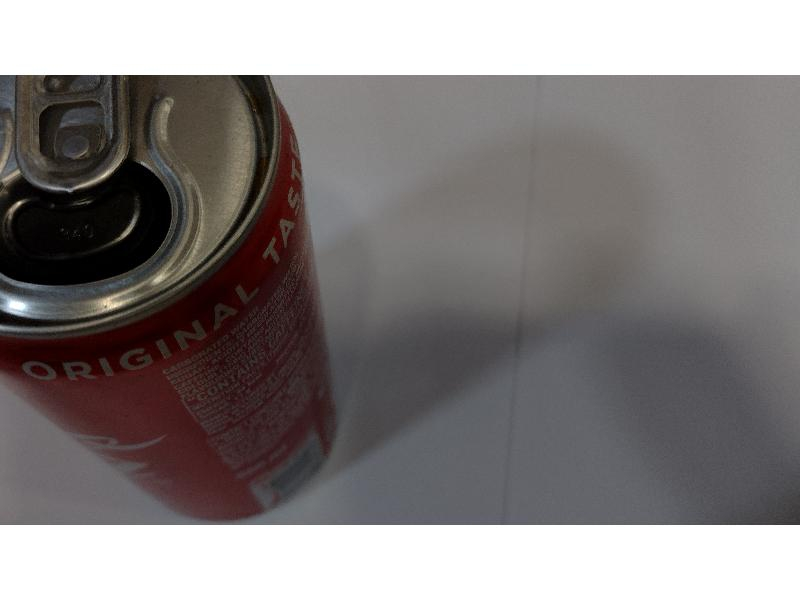can: (1, 78, 346, 522)
